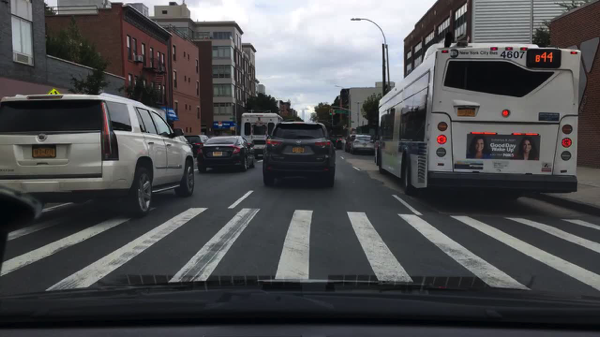bus: (374, 41, 583, 209), (234, 110, 286, 158)
car: (2, 87, 197, 220), (258, 120, 341, 189), (194, 136, 258, 174), (181, 130, 212, 155), (351, 133, 378, 155), (250, 139, 270, 154), (329, 133, 343, 152), (344, 132, 357, 152)
traffic light: (327, 107, 336, 118)
traffic sign: (333, 109, 349, 115)
